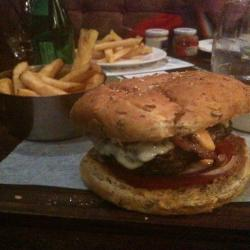burger: (66, 67, 250, 224)
fries: (5, 51, 109, 114), (76, 29, 153, 62)
